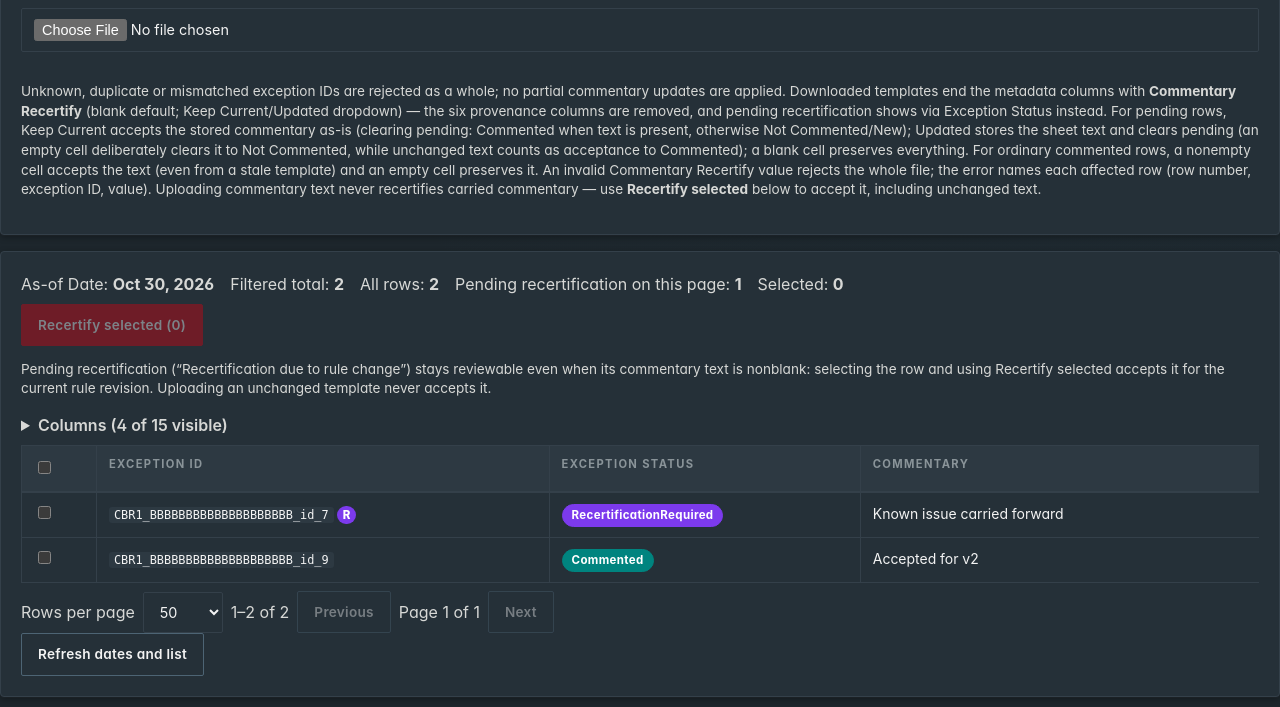
ExceptionTrackingPage recertification › keeps the selection on a failed recertification and reports the failure
(page scrolled)
Click the checkbox named "Select exception CBR1_BBBBBBBBBBBBBBBBBBBB_id_7" at (44, 512), box [38,506,51,518]
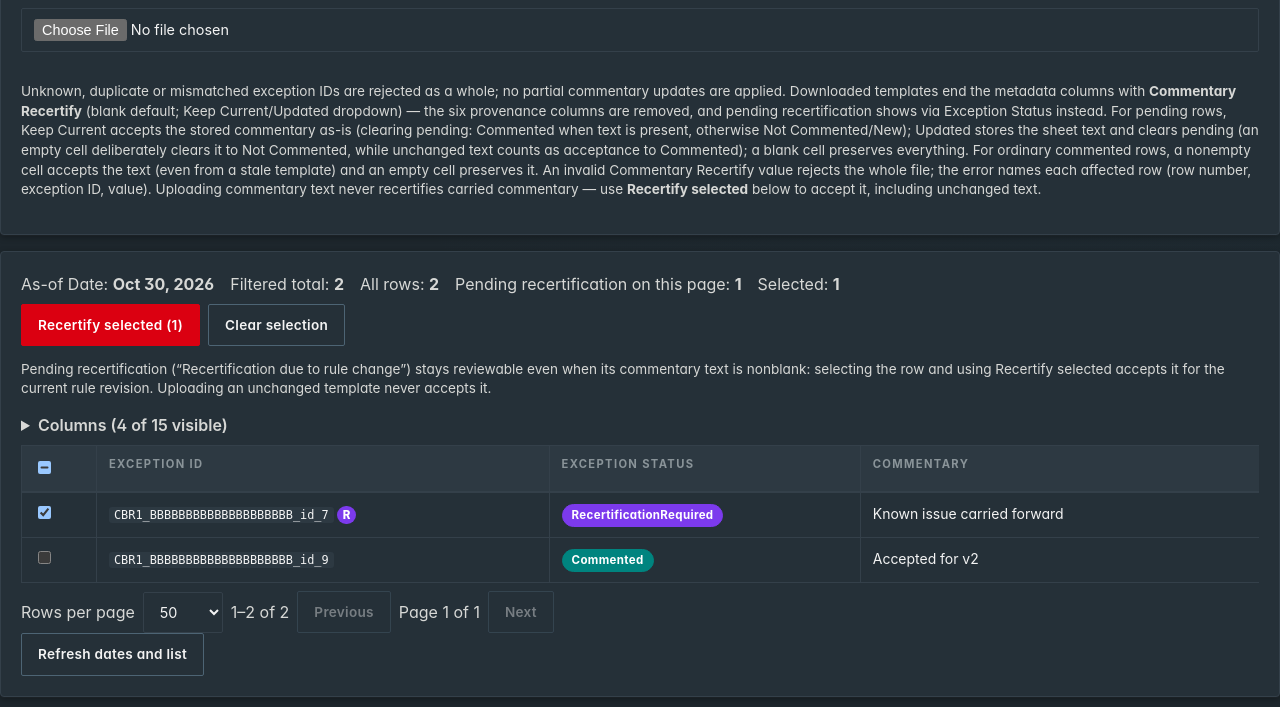
Click the button "Recertify selected (1)" at (111, 325), box [21,304,200,346]
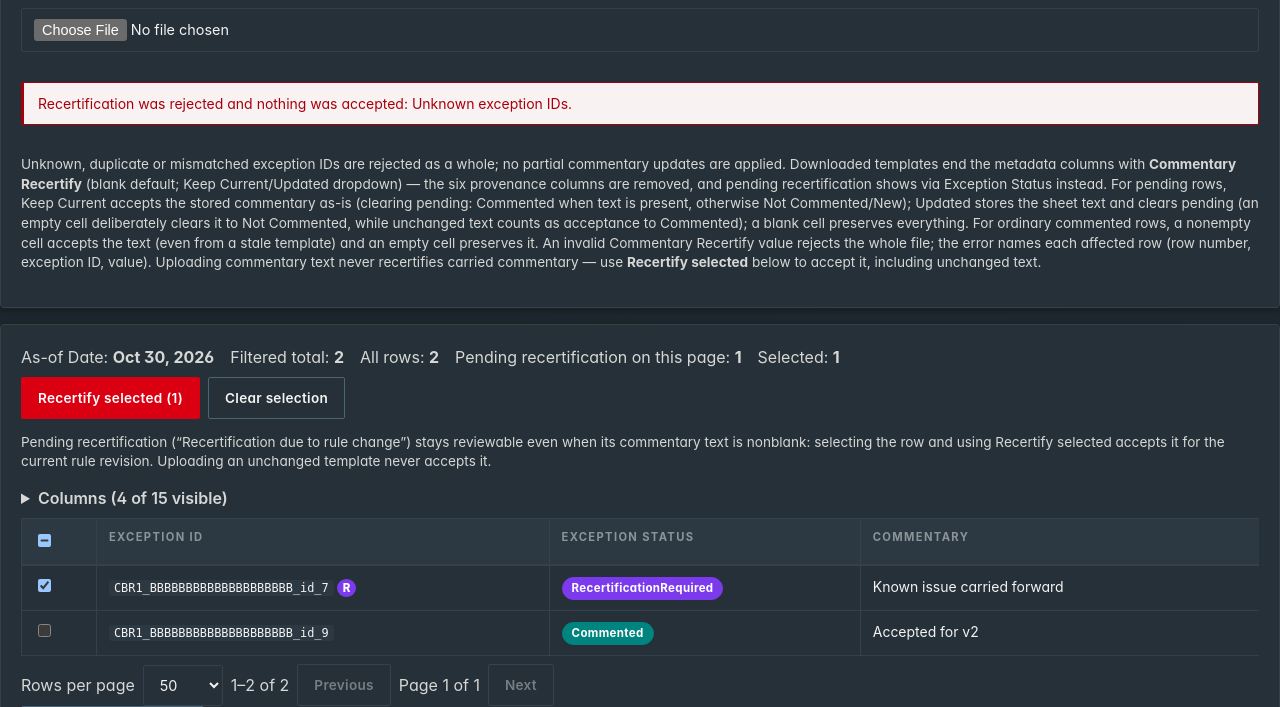
Expected: the button "Recertify selected (1)" is shown, [21,377,200,419]
Expected: the message shows "rejected and nothing was accepted", [38,95,572,112]
